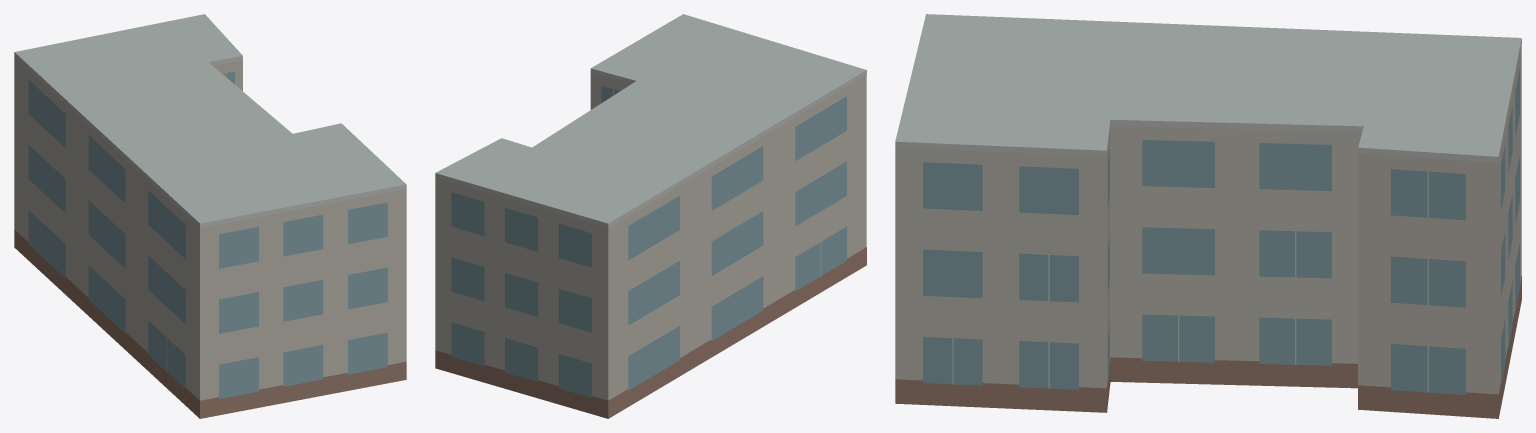
File: survey-upis-33020936.glb
3 renders of one model, left to right at view 1: azimuth 30°, elevation 25°; view 2: azimuth 150°, elevation 25°; view 3: azimuth 270°, elevation 25°, orthographic. The views are drawn at different scales.
Parts seen in each view (by area): view 1: survey-upis-33020936.tmp; view 2: survey-upis-33020936.tmp; view 3: survey-upis-33020936.tmp.
Part boxes in pixels (x1,y1,x2,y2): survey-upis-33020936.tmp: [14, 14, 406, 418]; survey-upis-33020936.tmp: [435, 14, 866, 418]; survey-upis-33020936.tmp: [895, 14, 1521, 418].
Bounding box in the file's own units: 12.34 × 10.55 × 22.87.
